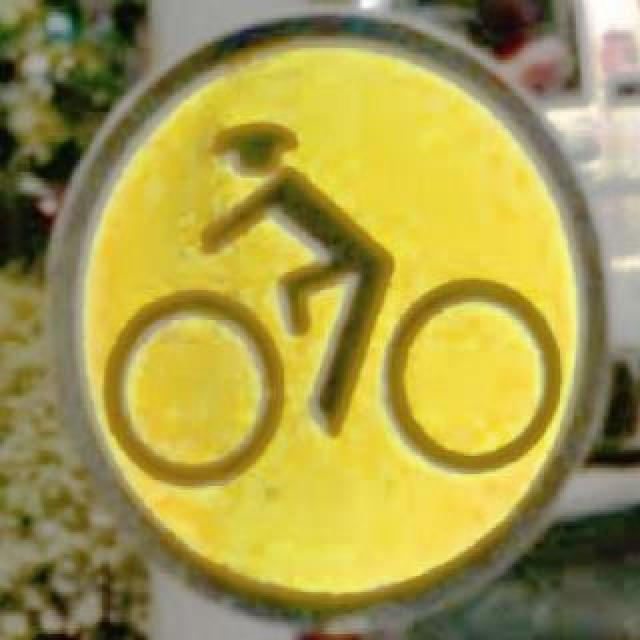bike lane: (50, 10, 610, 614)
